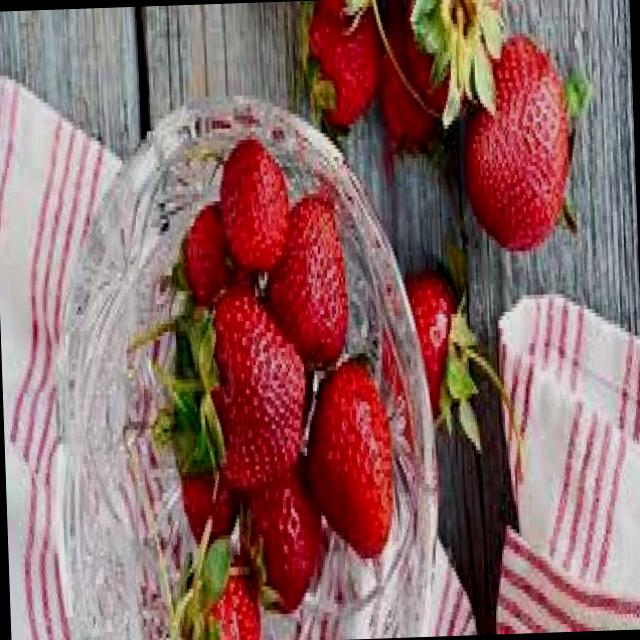Strawberry: (459, 30, 592, 256), (206, 278, 314, 495), (304, 356, 398, 564), (262, 196, 352, 376), (377, 0, 453, 182), (248, 472, 326, 618), (298, 2, 384, 134), (219, 138, 294, 277), (404, 268, 462, 428), (172, 472, 245, 549), (178, 205, 233, 305), (201, 574, 266, 640)
